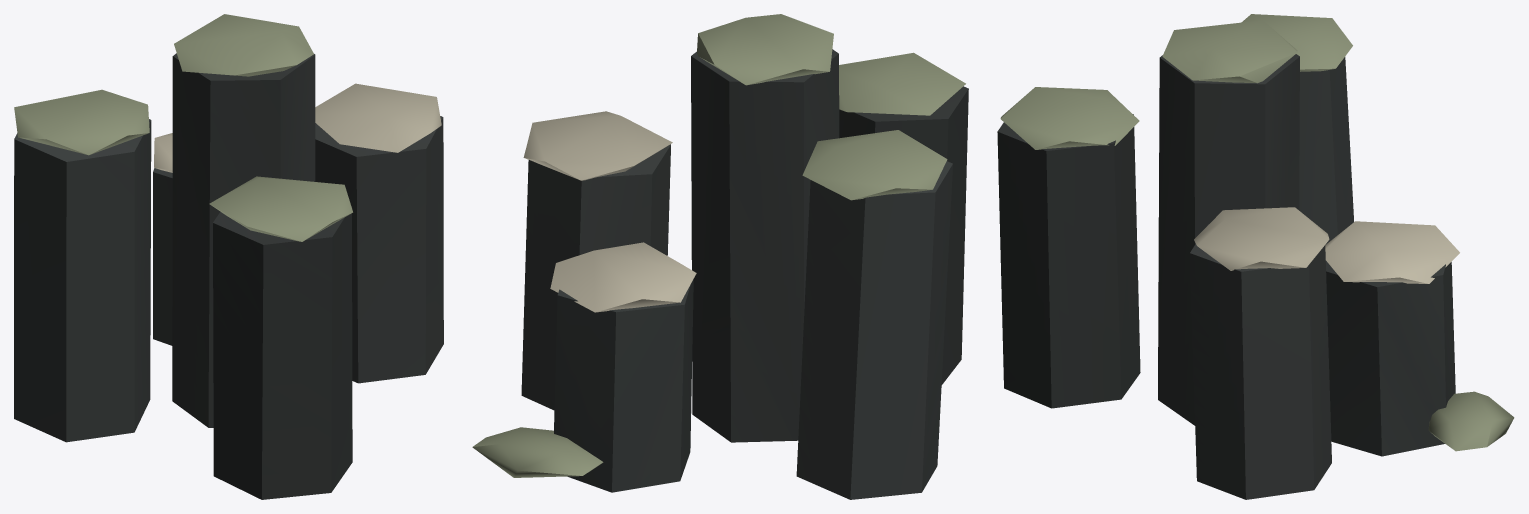
The model's file is column_stubs_b_lod2.glb.
The picture shows the model from 3 angles, left to right: view 1: azimuth 30°, elevation 25°; view 2: azimuth 150°, elevation 25°; view 3: azimuth 270°, elevation 25°; orthographic projection. The views are drawn at different scales.
Visible parts, largest first — view 1: Surface.001; view 2: Surface.001; view 3: Surface.001.
Part boxes in pixels (x1,y1,x2,y2): Surface.001: (14, 14, 443, 499); Surface.001: (472, 14, 968, 499); Surface.001: (997, 14, 1514, 499).
Bounding box in the file's own units: 2.89 × 2.54 × 3.23.
